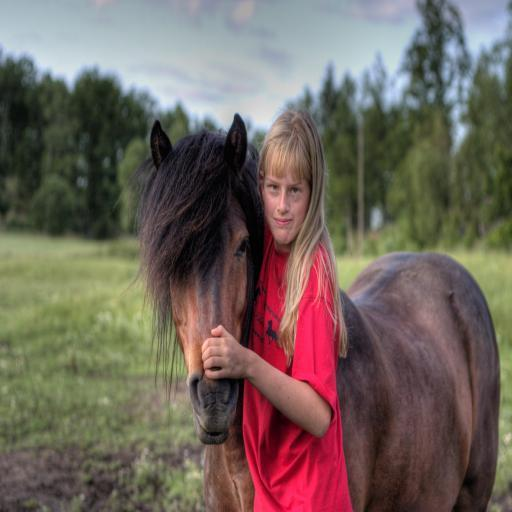horse: (108, 110, 500, 512)
